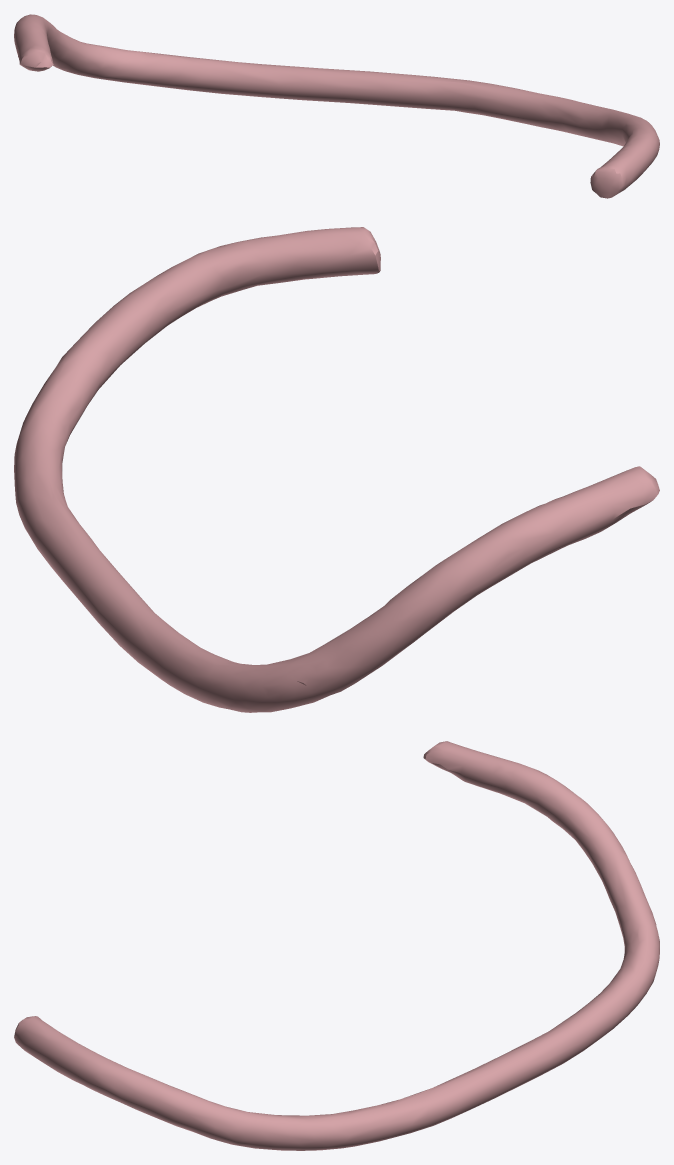
File: fma75135-l_mm3227.glb
3 renders of one model, top to bottom at view 1: azimuth 30°, elevation 25°; view 2: azimuth 150°, elevation 25°; view 3: azimuth 270°, elevation 25°, orthographic. The views are drawn at different scales.
Parts seen in each view (by area): view 1: FMA75135-L_MM3227; view 2: FMA75135-L_MM3227; view 3: FMA75135-L_MM3227.
Boxes of the visible parts, x1,y1,x2,y2 form: FMA75135-L_MM3227: [14, 14, 659, 198]; FMA75135-L_MM3227: [14, 227, 659, 712]; FMA75135-L_MM3227: [14, 741, 659, 1150].
Size of the model in its own units: 0.0498 by 0.0147 by 0.051.
